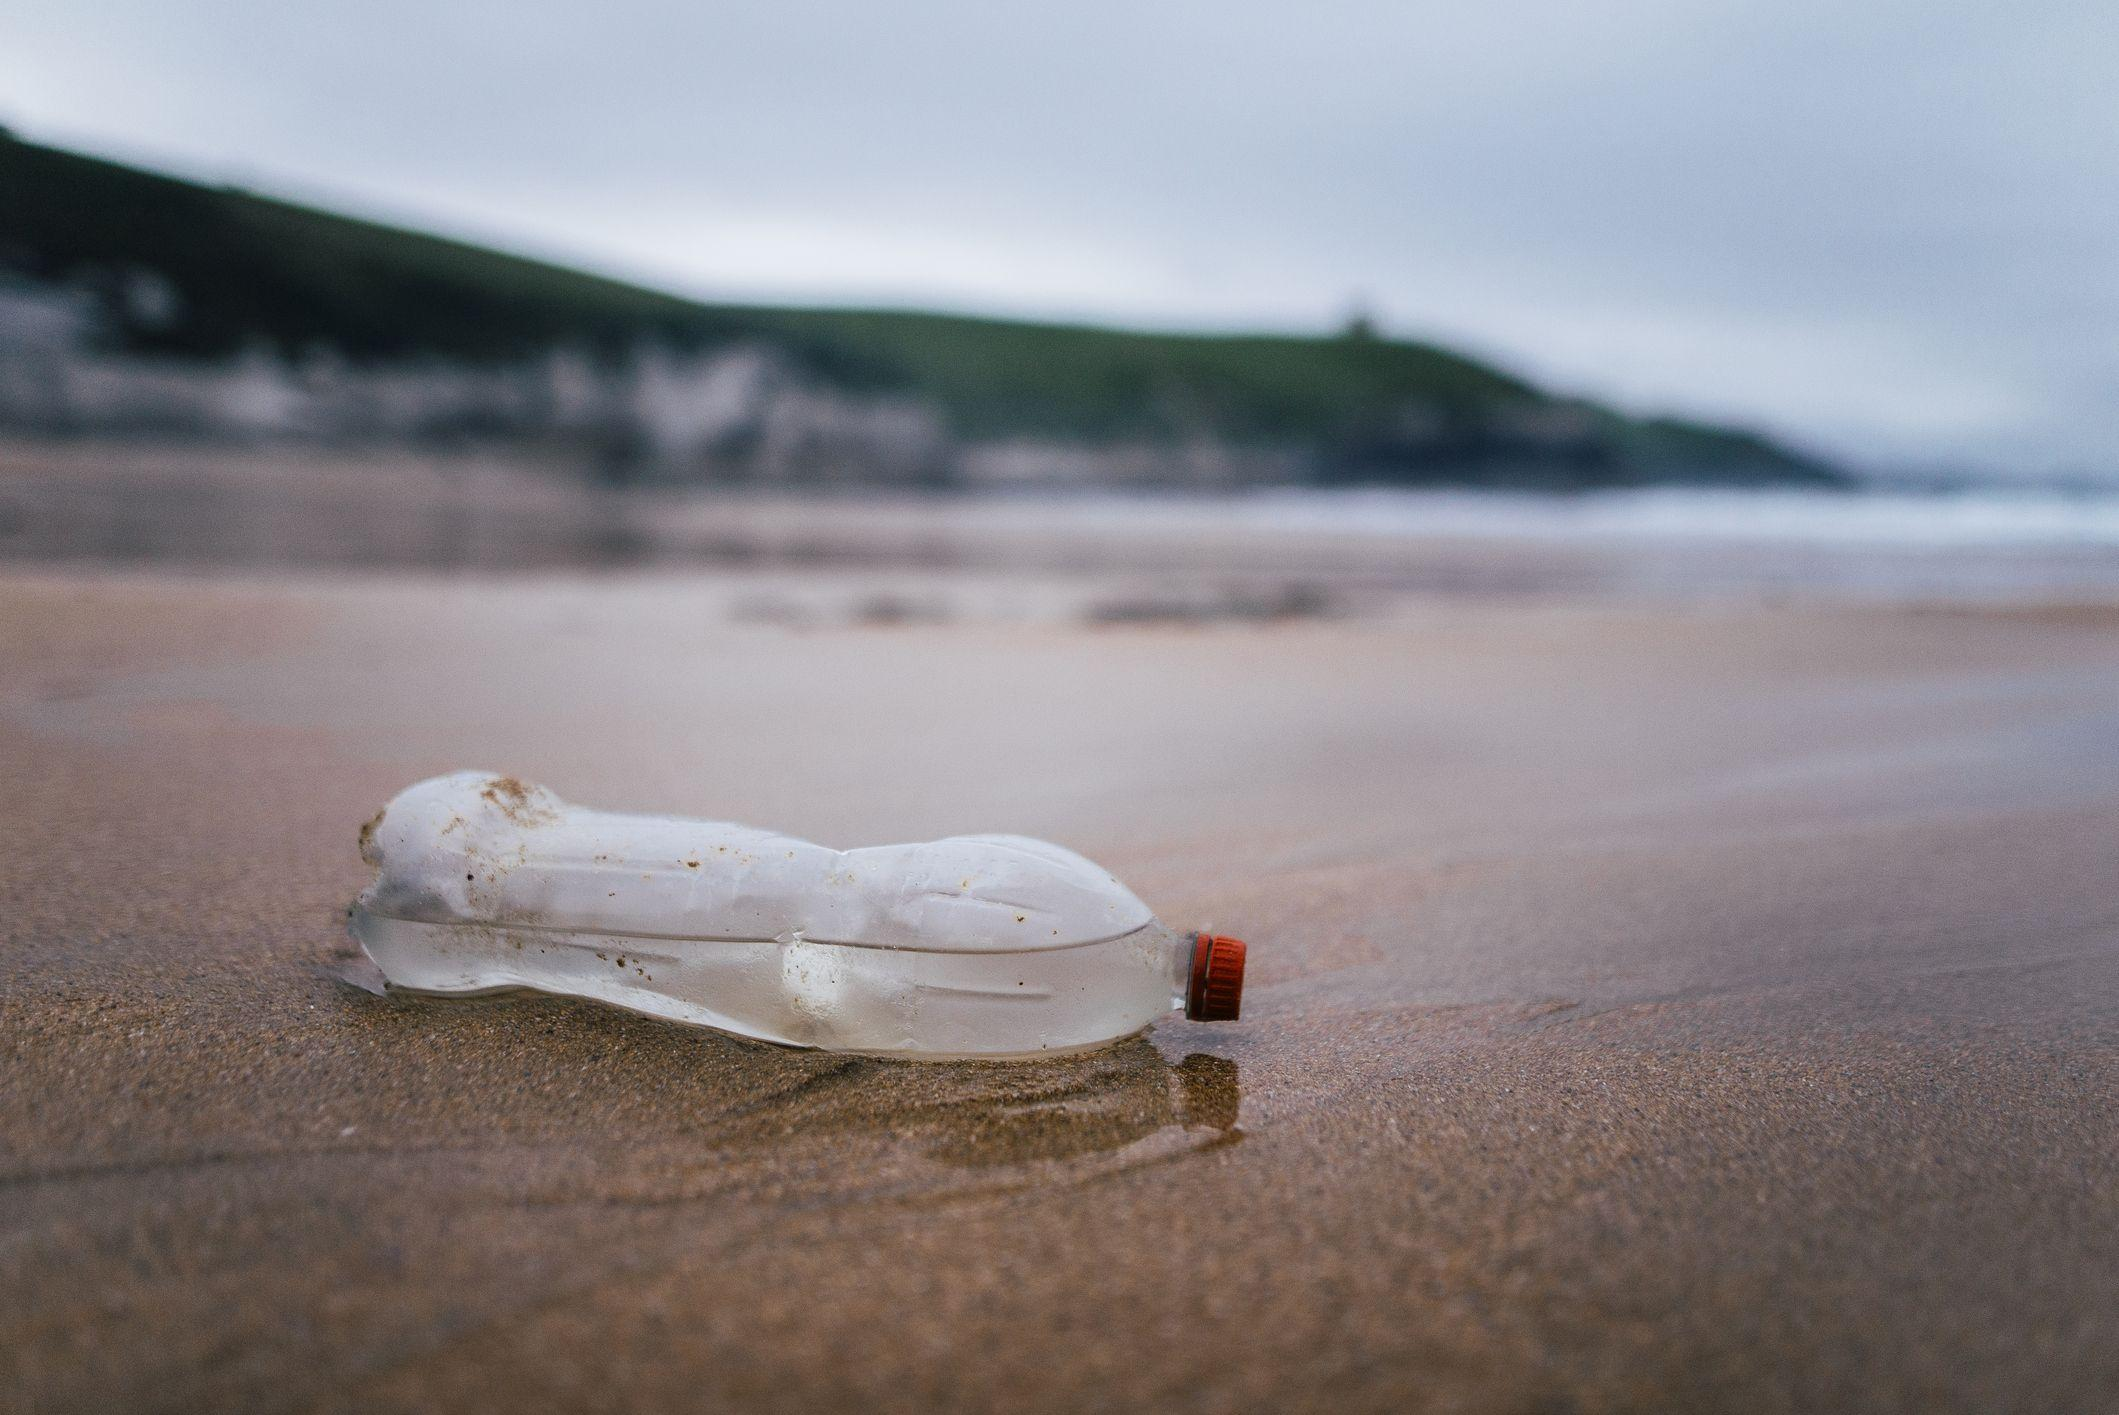bottle: (341, 829, 1265, 957)
